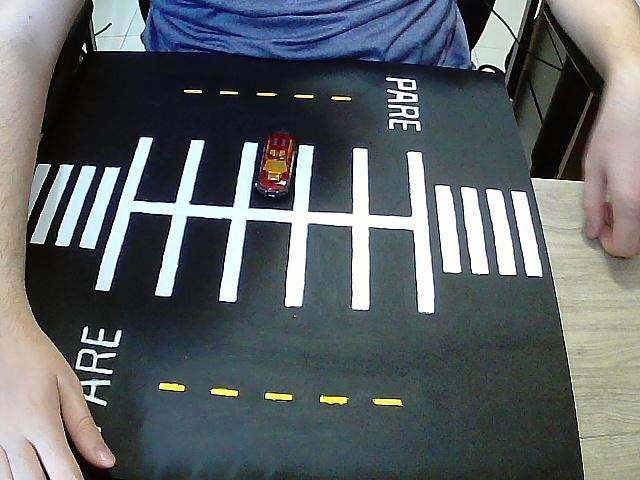Carro: (255, 132, 295, 199)
